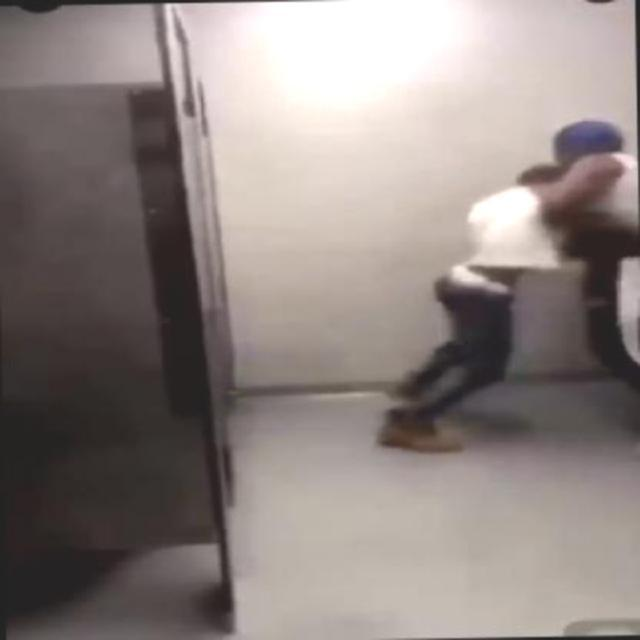fight: (382, 118, 638, 457)
